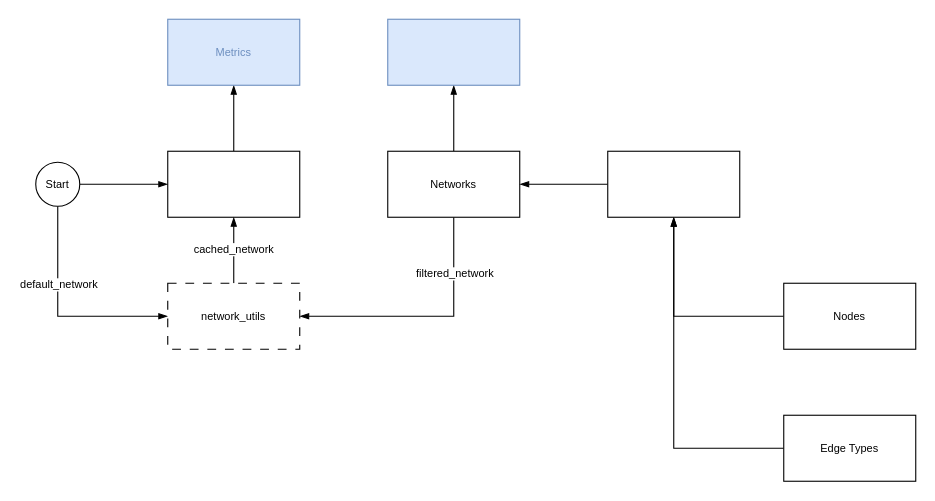
The diagram is 935 pixels wide and 501 high, and some of its shapes have lost their labels. Each missing label, with the centre of its shape:
"Breakdowns" belongs at [453,51].
"Dashboard" belongs at [233,183].
"Edges" belongs at [673,183].
